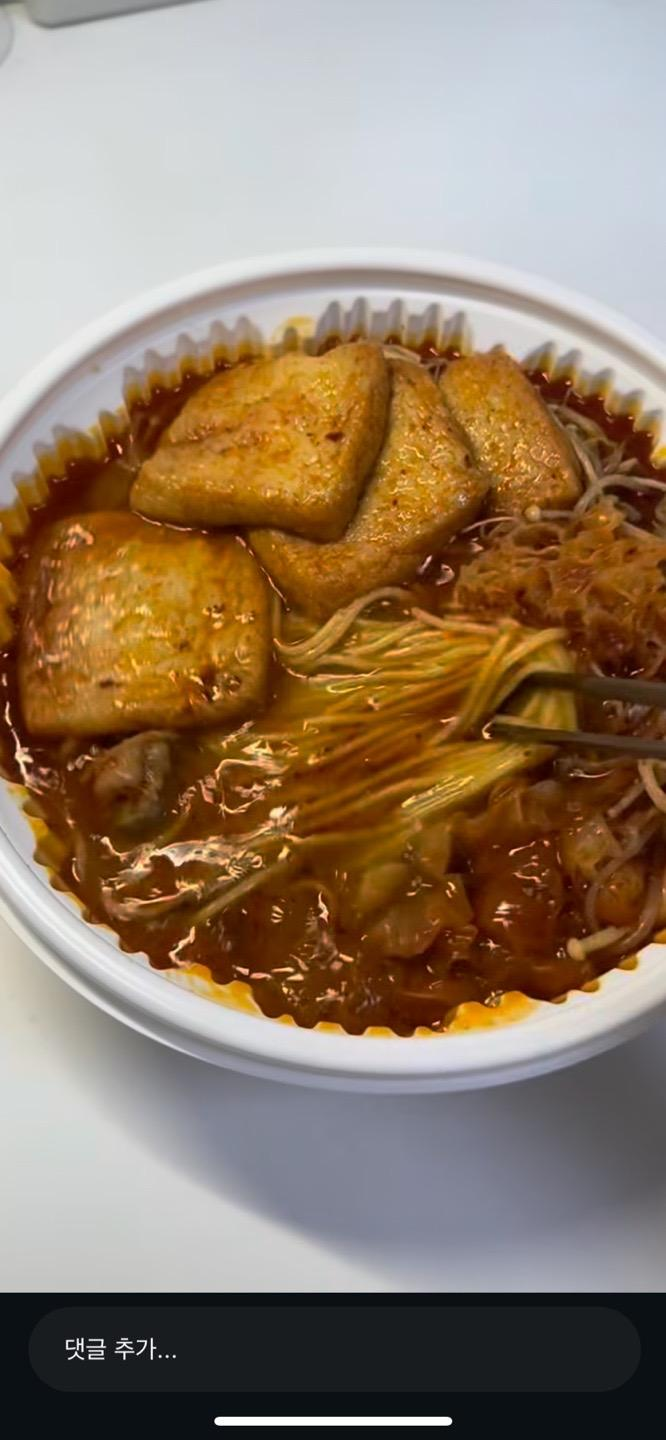Lunch Box: (0, 255, 665, 1091)
